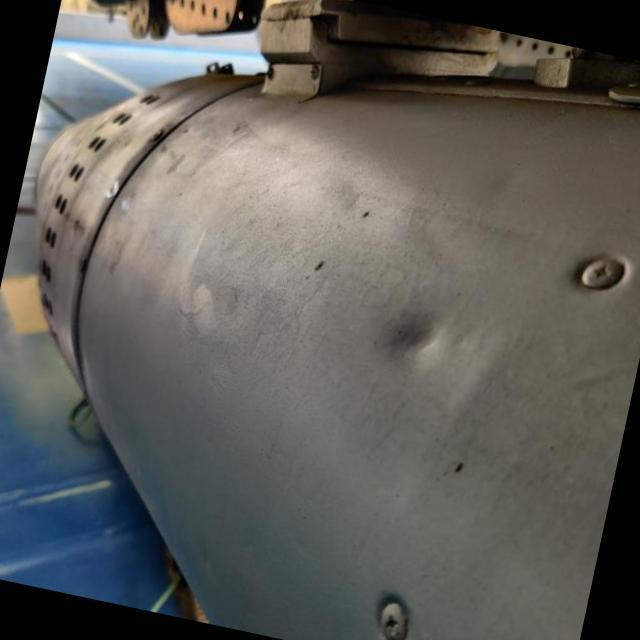dent: (362, 284, 462, 382)
